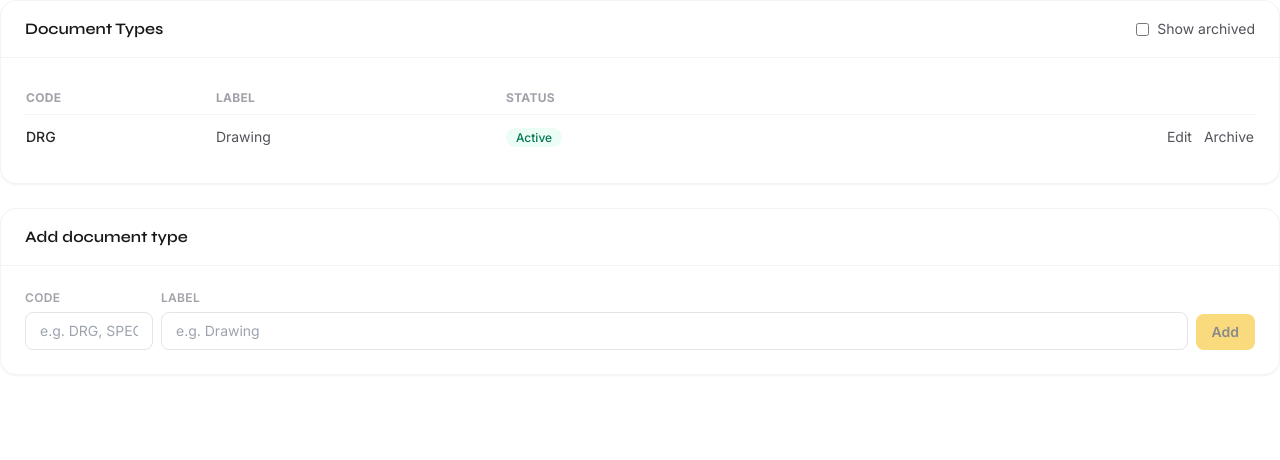
Test case: DocumentTypesSection › shows the referencing-count error when archive is blocked
Check: the text "DRG" is shown, box top-left (25, 114), bottom-right (215, 159)
Step 1. Click the button "Archive" → [1229, 137], box top-left (1204, 127), bottom-right (1254, 147)
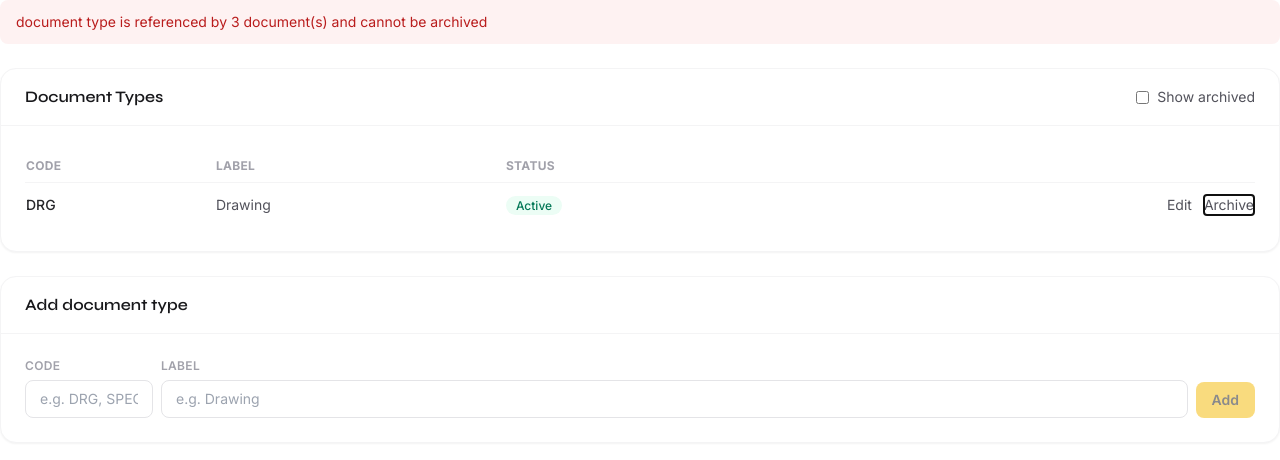
Check: the text "document type is referenced by 3 document(s) and cannot be archived" is shown, box top-left (0, 0), bottom-right (1279, 44)
